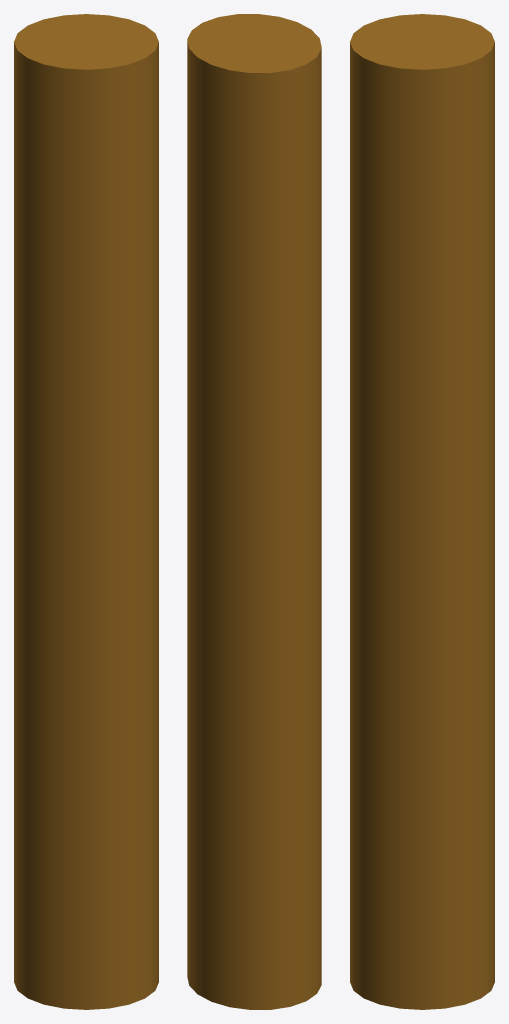
File: Stalk01.fbx
3 views of the same model, side by side, from view 1: azimuth 90°, elevation 25°; view 2: azimuth 210°, elevation 25°; view 3: azimuth 270°, elevation 25° (orthographic).
Parts seen in each view (by area): view 1: polySurface60; view 2: polySurface60; view 3: polySurface60.
Part boxes in pixels (<box>): polySurface60: <box>14,14,158,1009</box>; polySurface60: <box>187,14,321,1009</box>; polySurface60: <box>350,14,494,1009</box>.
Size of the model in its own units: 0.062 by 0.4872 by 0.0681.
